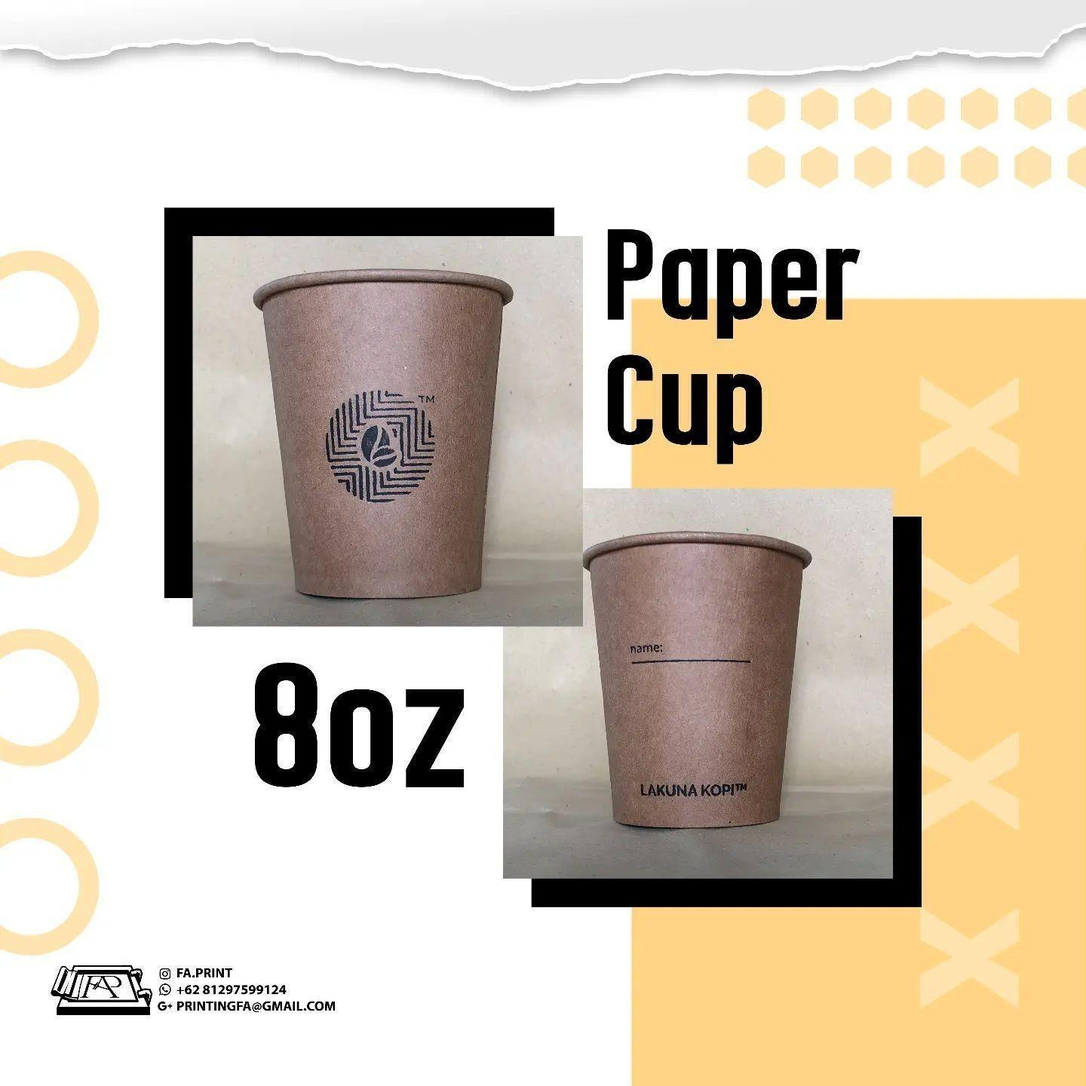cup-disposable: (242, 257, 519, 612), (581, 523, 817, 842)
